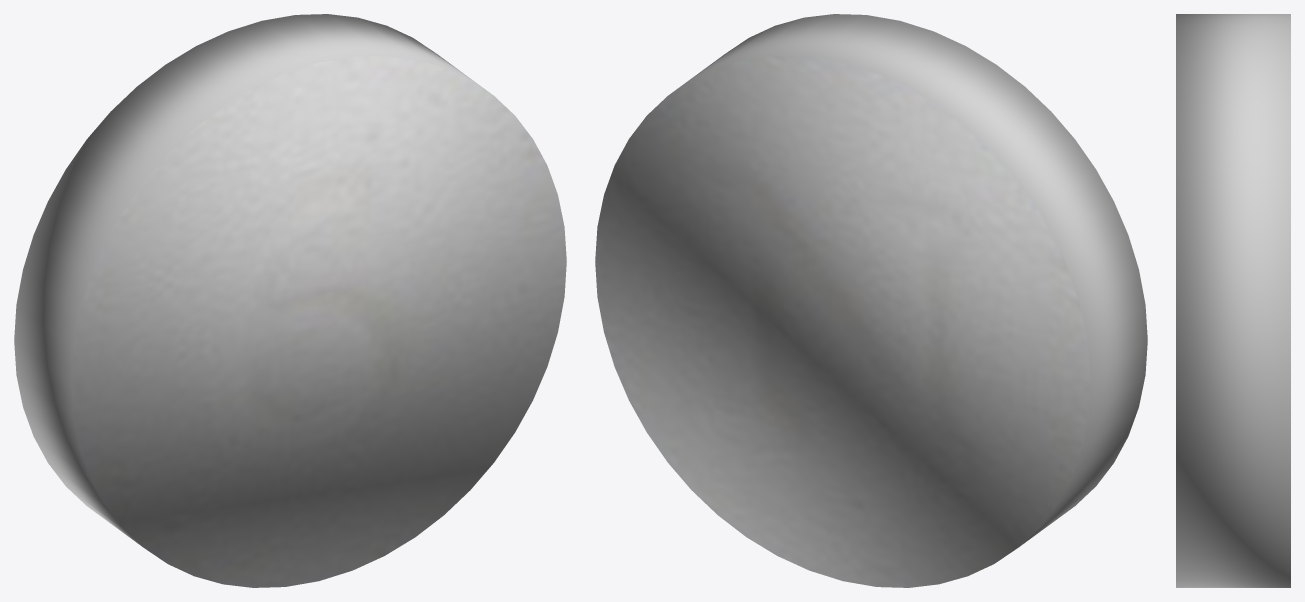
File: 20140311GOPHDRGPT01958.fbx
3 renders of one model, left to right at view 1: azimuth 30°, elevation 25°; view 2: azimuth 150°, elevation 25°; view 3: azimuth 270°, elevation 25°, orthographic.
Parts seen in each view (by area): view 1: 貝茲圓.002; view 2: 貝茲圓.002; view 3: 貝茲圓.002.
Part boxes in pixels (bbox=[...]): 貝茲圓.002: bbox=[14, 14, 566, 587]; 貝茲圓.002: bbox=[595, 14, 1147, 587]; 貝茲圓.002: bbox=[1176, 14, 1290, 587].
Bounding box in the file's own units: 0.3905 × 0.3905 × 0.0781.
Materials: 1 (1 with a texture image).
